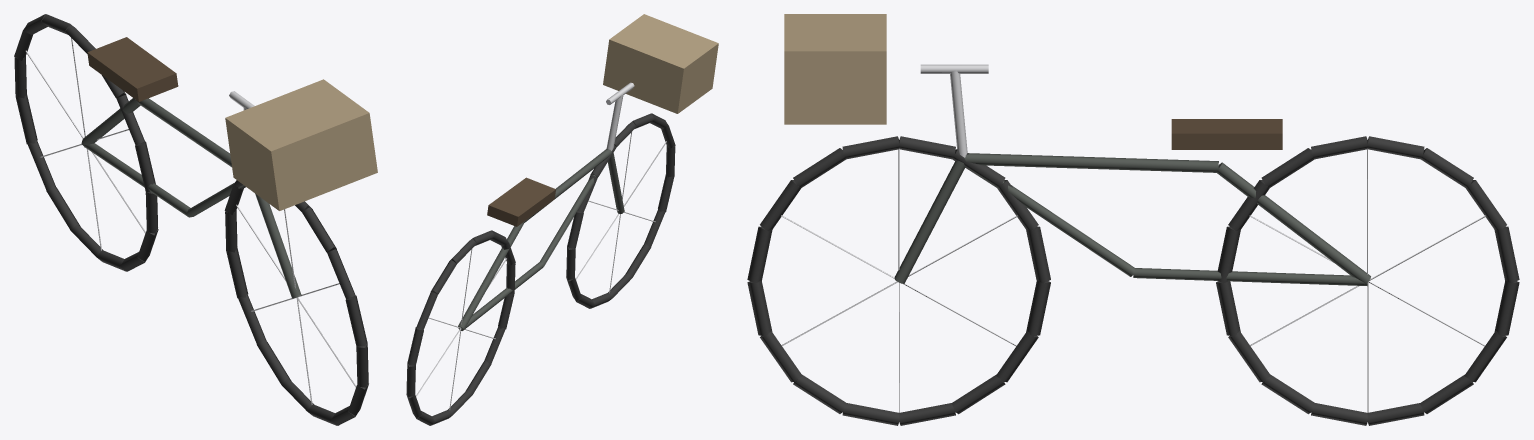
Rendered from garage_bicycle_a.glb.
3 renders of one model, left to right at view 1: azimuth 30°, elevation 25°; view 2: azimuth 150°, elevation 25°; view 3: azimuth 270°, elevation 25°, orthographic. The views are drawn at different scales.
Parts seen in each view (by area): view 1: body; view 2: body; view 3: body.
Part boxes in pixels (<box>): body: <box>14,14,377,425</box>; body: <box>406,14,718,425</box>; body: <box>747,14,1519,425</box>.
Size of what is drawn, in the model's own units: 0.3222 by 0.9783 by 1.81.
